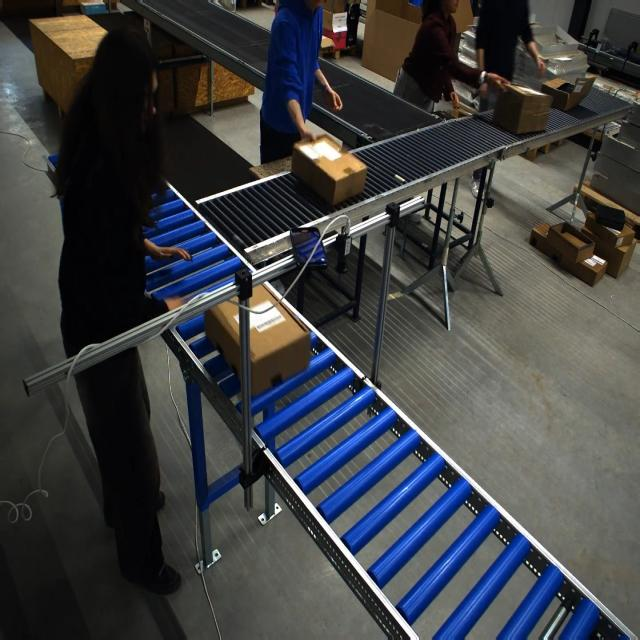box: (205, 286, 308, 397), (293, 134, 361, 207)
